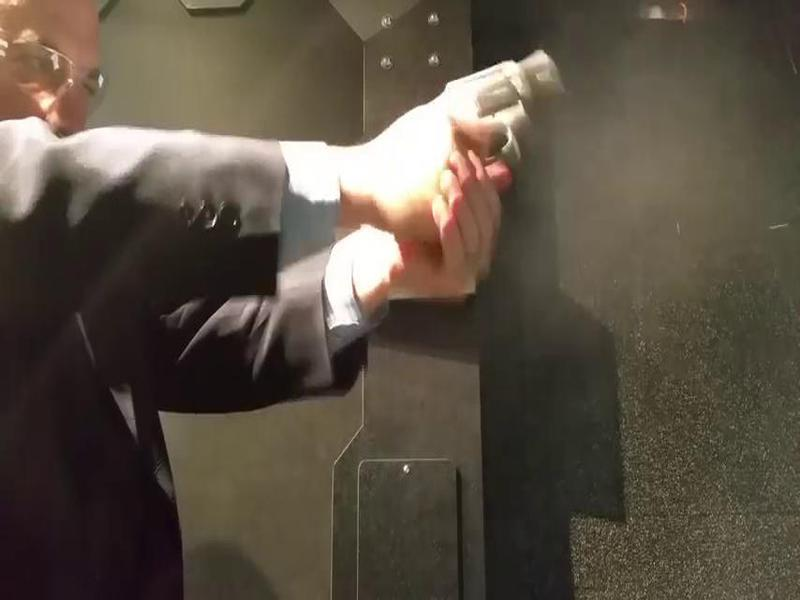Revolver: (383, 24, 575, 217)
